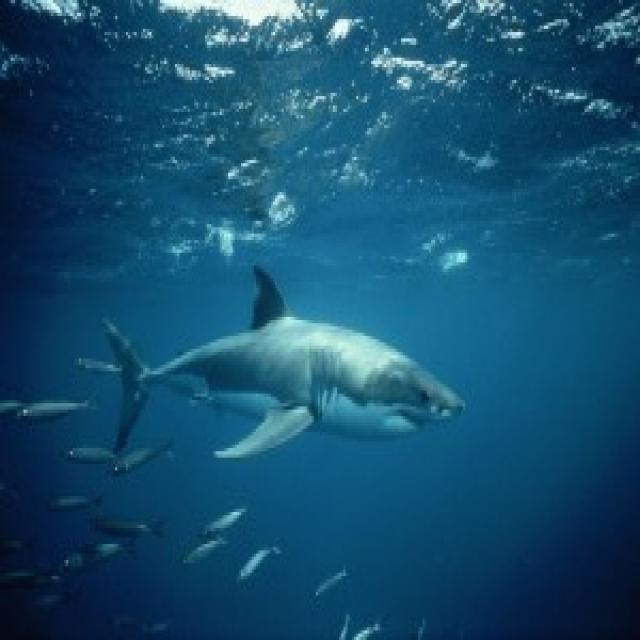Shark: (106, 262, 468, 458)
